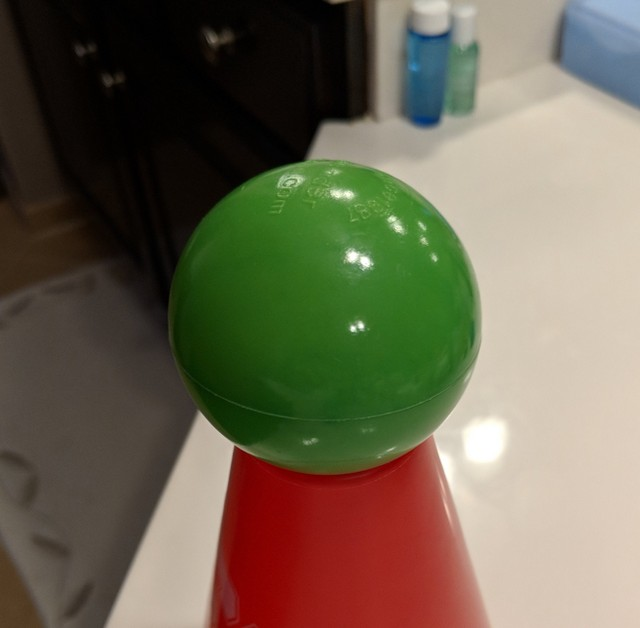Ball: (166, 158, 481, 461)
